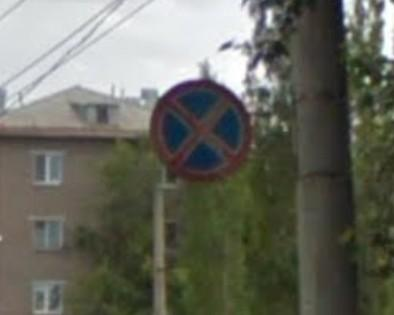No Parking: (148, 77, 255, 186)
